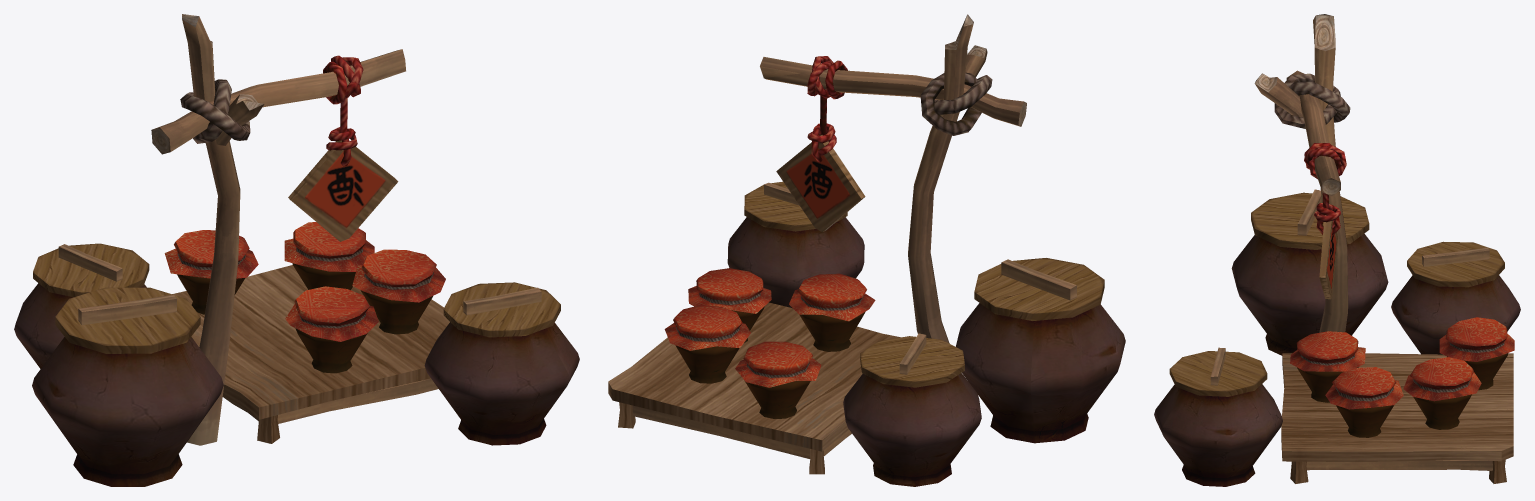
Rendered from daliang_field_a_p01a.fbx.
3 renders of one model, left to right at view 1: azimuth 30°, elevation 25°; view 2: azimuth 150°, elevation 25°; view 3: azimuth 270°, elevation 25°, orthographic. The views are drawn at different scales.
Visible parts, largest first — view 1: daliang_field_a_p01a; view 2: daliang_field_a_p01a; view 3: daliang_field_a_p01a.
Boxes of the visible parts, left/top/right/bottom form: daliang_field_a_p01a: left=14, top=14, right=579, bottom=486; daliang_field_a_p01a: left=608, top=14, right=1125, bottom=486; daliang_field_a_p01a: left=1154, top=14, right=1520, bottom=486.
Size of the model in its own units: 427 by 375 by 348.
